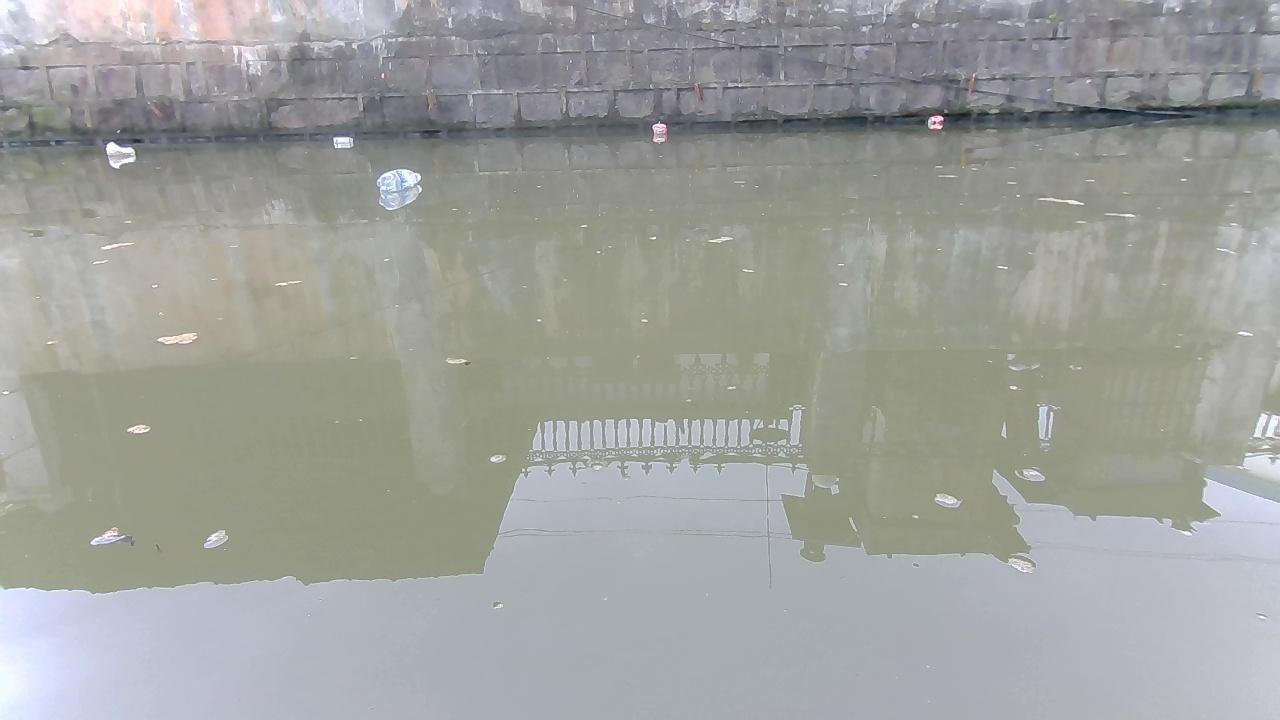bottle: (374, 163, 421, 196), (101, 137, 137, 163), (334, 132, 356, 148), (928, 113, 941, 128), (654, 123, 666, 136)
